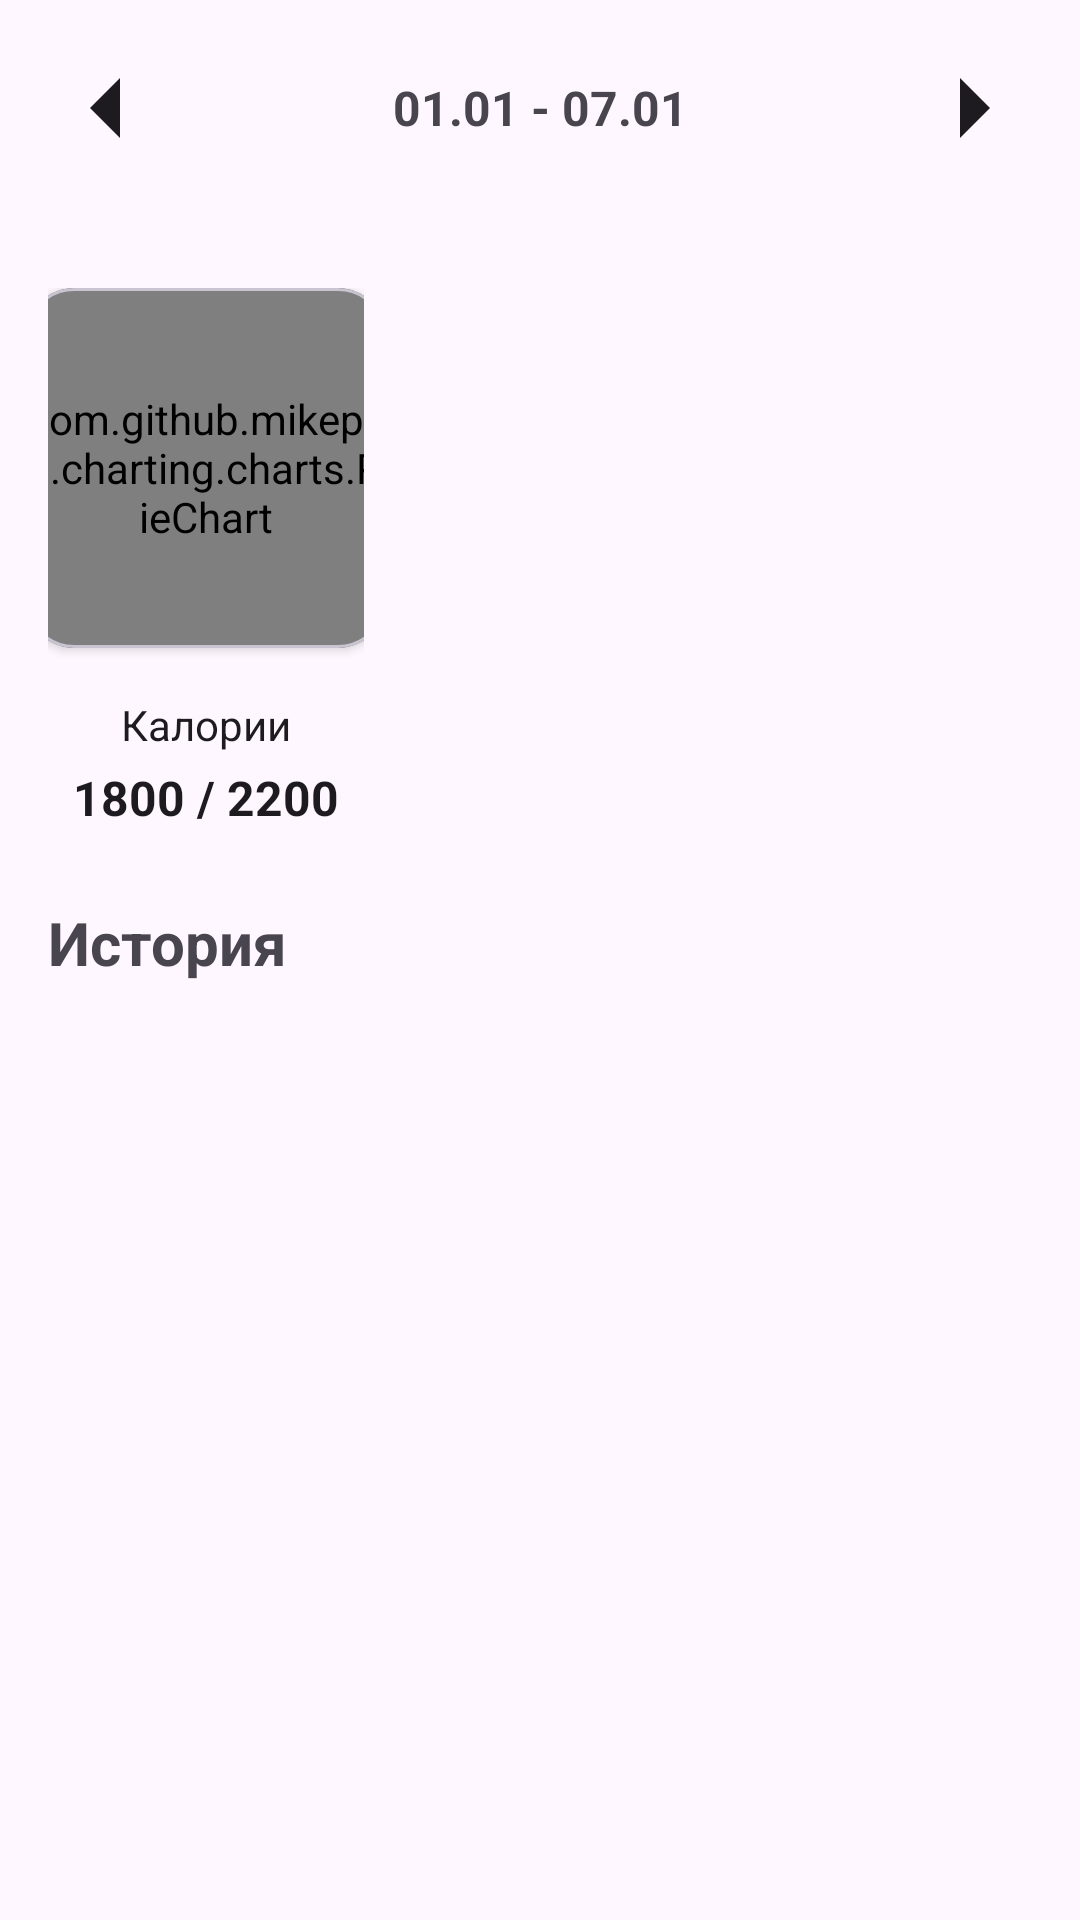

Named icons in this screenshot (1080×1920) and their bounding boxes, (x1, y1, x2, y2):
arrow left: (90, 78, 120, 138)
arrow right: (960, 78, 990, 138)
